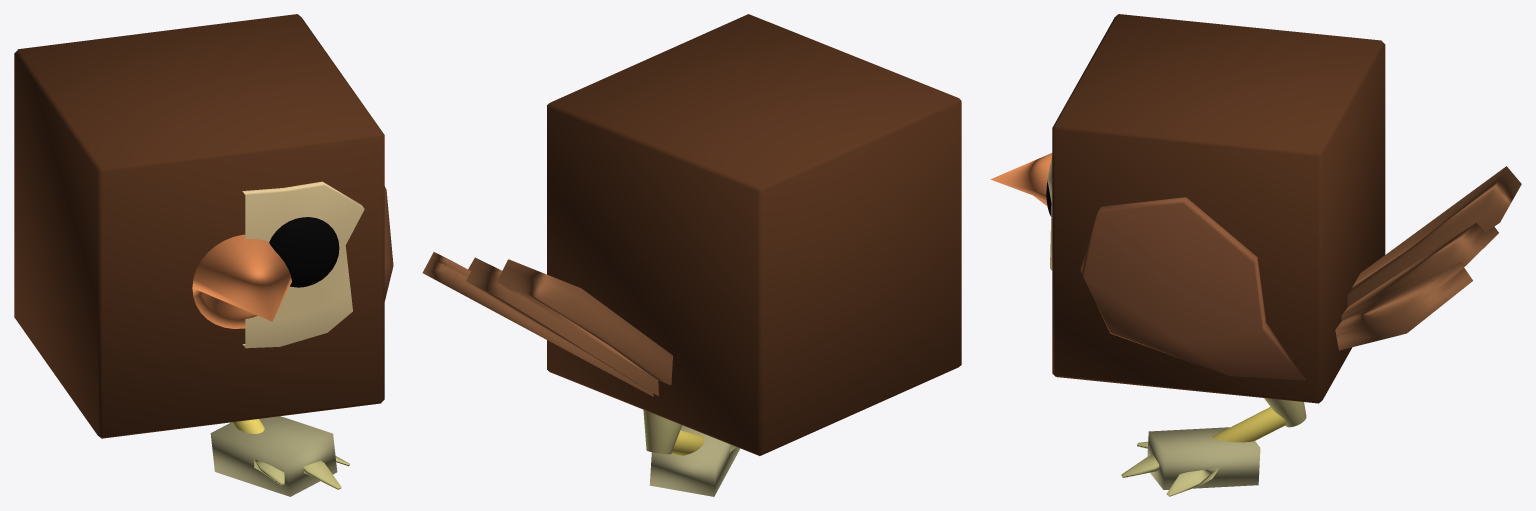
The model's file is asset.glb.
3 views of the same model, side by side, from view 1: azimuth 30°, elevation 25°; view 2: azimuth 150°, elevation 25°; view 3: azimuth 270°, elevation 25° (orthographic). The views are drawn at different scales.
Parts seen in each view (by area): view 1: body, face.001, beak, feet, eyes, wings, feet.004; view 2: body, tail, feet, legs, legs2; view 3: body, wings, tail, feet, beak, legs2, legs, feet.003.
Part boxes in pixels (x1=…): body: x1=14, y1=14, x2=384, y2=438; face.001: x1=242, y1=181, x2=364, y2=348; beak: x1=192, y1=234, x2=291, y2=328; feet: x1=210, y1=416, x2=337, y2=496; eyes: x1=269, y1=217, x2=339, y2=287; wings: x1=384, y1=186, x2=393, y2=301; feet.004: x1=303, y1=460, x2=341, y2=489; body: x1=547, y1=14, x2=961, y2=455; tail: x1=422, y1=252, x2=672, y2=396; feet: x1=649, y1=425, x2=740, y2=496; legs: x1=643, y1=409, x2=682, y2=454; legs2: x1=665, y1=430, x2=704, y2=455; body: x1=1052, y1=14, x2=1385, y2=403; wings: x1=1080, y1=197, x2=1305, y2=380; tail: x1=1335, y1=166, x2=1521, y2=350; feet: x1=1147, y1=427, x2=1260, y2=489; beak: x1=990, y1=153, x2=1052, y2=206; legs2: x1=1212, y1=407, x2=1285, y2=442; legs: x1=1264, y1=398, x2=1306, y2=427; feet.003: x1=1166, y1=468, x2=1219, y2=496.
Size of the model in its own units: 2.13 by 2.08 by 2.72.
